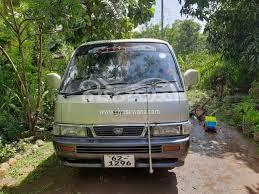Van: (46, 39, 208, 174)
